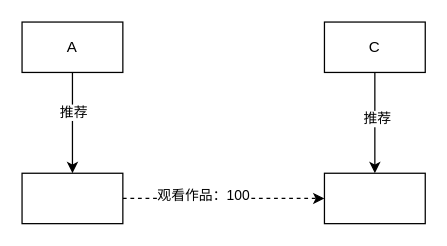
Some shapes in this 447 by 246 pixel diagram are drawn without their labels. The shapes that lost their labels are listed below. From the top down, each one's centre as x and y in pixels, then its label:
At (72,198): "B：观看者".
At (374,198): "D：发布着".
